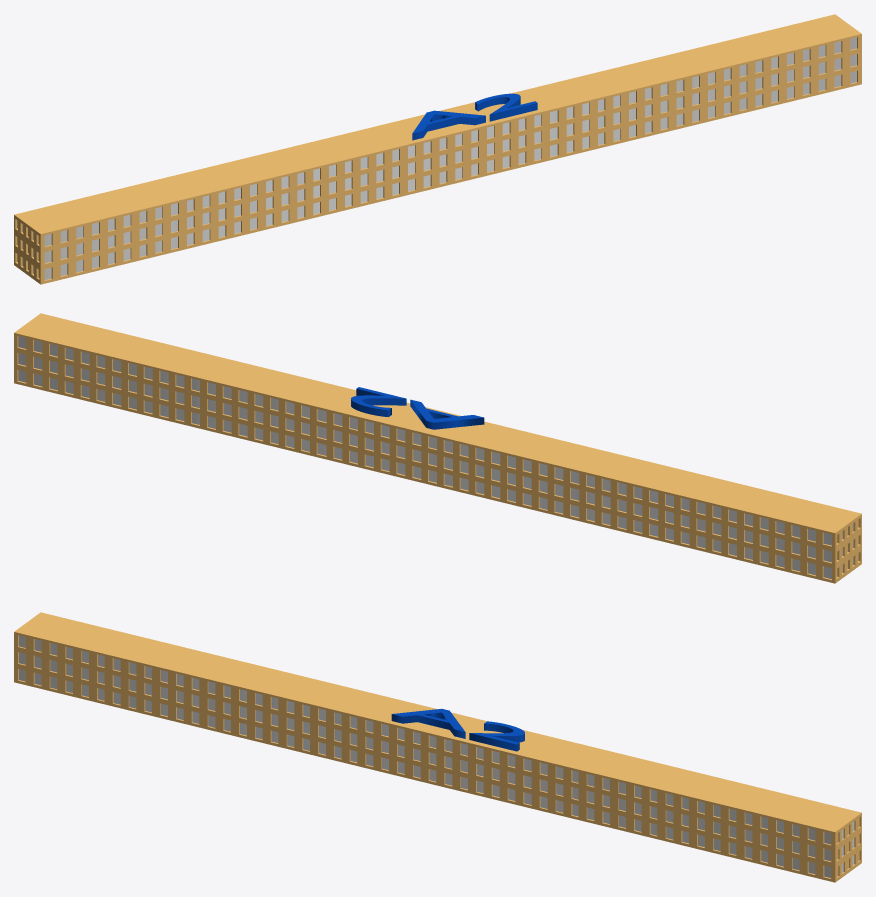
Rendered from BuildingA2.obj.
The picture shows the model from 3 angles, top to bottom: view 1: azimuth 30°, elevation 25°; view 2: azimuth 150°, elevation 25°; view 3: azimuth 330°, elevation 25°; orthographic projection.
Parts seen in each view (by area): view 1: Plane.077, Text.044; view 2: Plane.077, Text.044; view 3: Plane.077, Text.044.
Boxes of the visible parts, x1,y1,x2,y2 form: Plane.077: (14,14,861,284); Text.044: (412,93,537,140); Plane.077: (14,313,861,583); Text.044: (351,387,484,429); Plane.077: (14,612,861,882); Text.044: (391,708,524,751).
Size of the model in its own units: 82.09 by 5.49 by 4.63.
